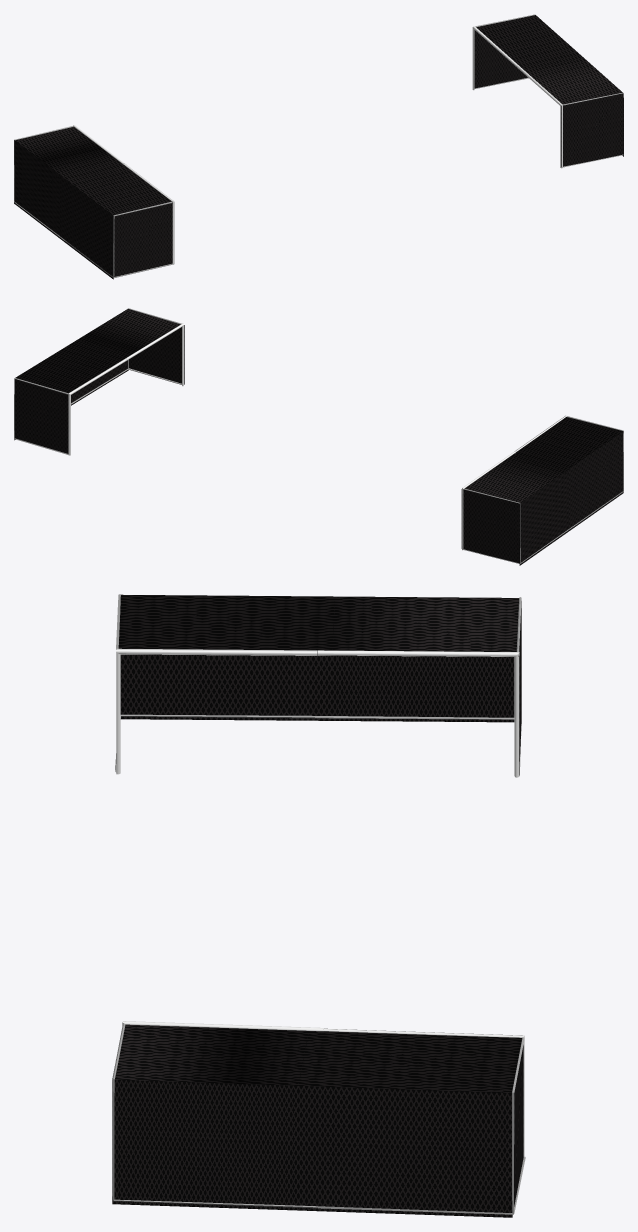
Rendered from net.fbx.
3 renders of one model, top to bottom at view 1: azimuth 30°, elevation 25°; view 2: azimuth 150°, elevation 25°; view 3: azimuth 270°, elevation 25°, orthographic. The views are drawn at different scales.
Parts seen in each view (by area): view 1: net2; view 2: net2; view 3: net2.
Boxes of the visible parts, bbox=[...] form: net2: bbox=[14, 14, 623, 279]; net2: bbox=[14, 308, 623, 565]; net2: bbox=[112, 594, 525, 1217].
Bounding box in the file's own units: 1776 × 210 × 622.
Materials: 3 (1 with a texture image).
